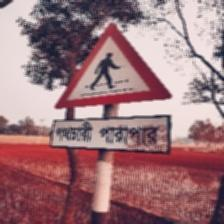Pedestrian-crossing: (49, 22, 175, 153)
